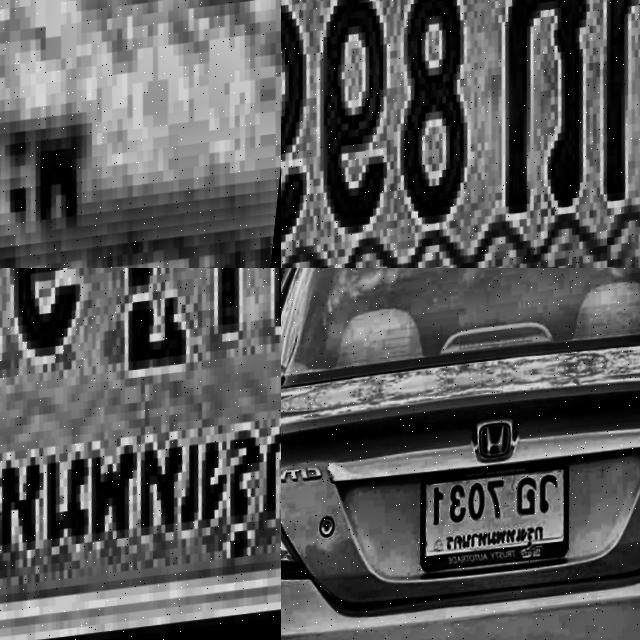license-plate: (0, 268, 281, 640), (281, 0, 640, 268), (0, 0, 281, 268), (416, 456, 585, 576)
